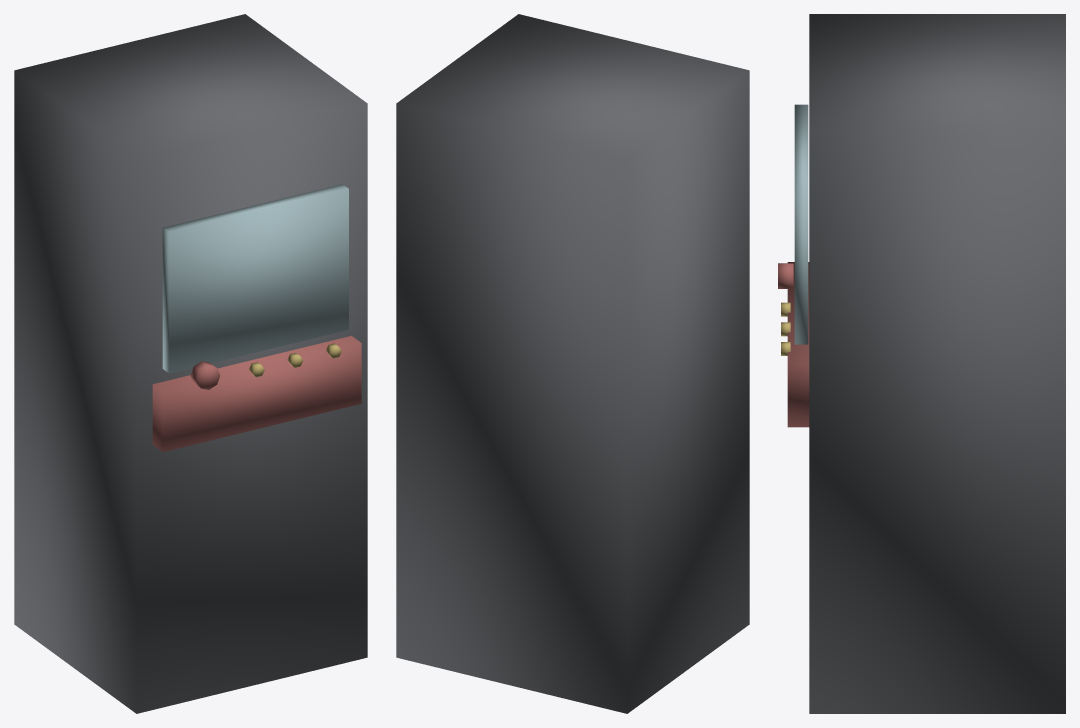
The model's file is arcade_cabinet.glb.
The picture shows the model from 3 angles, left to right: view 1: azimuth 30°, elevation 25°; view 2: azimuth 150°, elevation 25°; view 3: azimuth 270°, elevation 25°; orthographic projection. The views are drawn at different scales.
Visible parts, largest first — view 1: world; view 2: world; view 3: world.
Boxes of the visible parts, x1=… form: world: x1=14, y1=14, x2=367, y2=713; world: x1=396, y1=14, x2=749, y2=713; world: x1=778, y1=14, x2=1065, y2=713.
Size of the model in its own units: 0.72 by 1.65 by 0.74.
